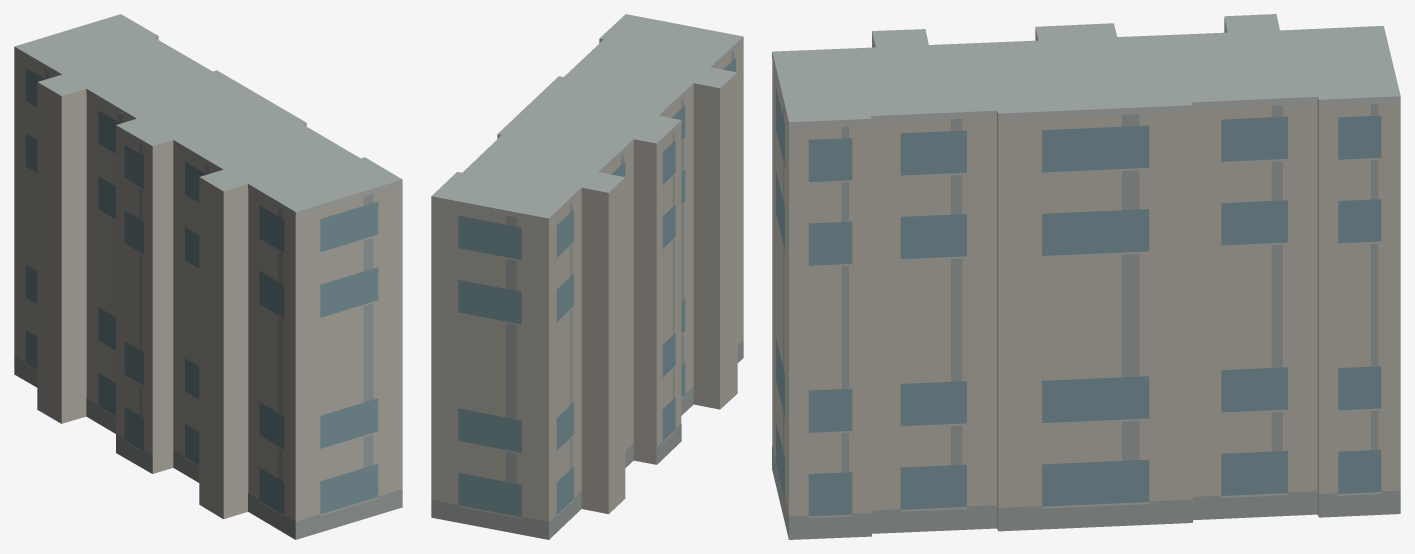
Rendered from survey-upis-32699918.glb.
The picture shows the model from 3 angles, left to right: view 1: azimuth 30°, elevation 25°; view 2: azimuth 150°, elevation 25°; view 3: azimuth 270°, elevation 25°; orthographic projection. The views are drawn at different scales.
Visible parts, largest first — view 1: survey-upis-32699918.tmp; view 2: survey-upis-32699918.tmp; view 3: survey-upis-32699918.tmp.
Part boxes in pixels (<box>): survey-upis-32699918.tmp: <box>14,14,402,539</box>; survey-upis-32699918.tmp: <box>431,14,743,539</box>; survey-upis-32699918.tmp: <box>772,14,1400,539</box>.
Size of the model in its own units: 8.48 by 15.25 by 20.81.
